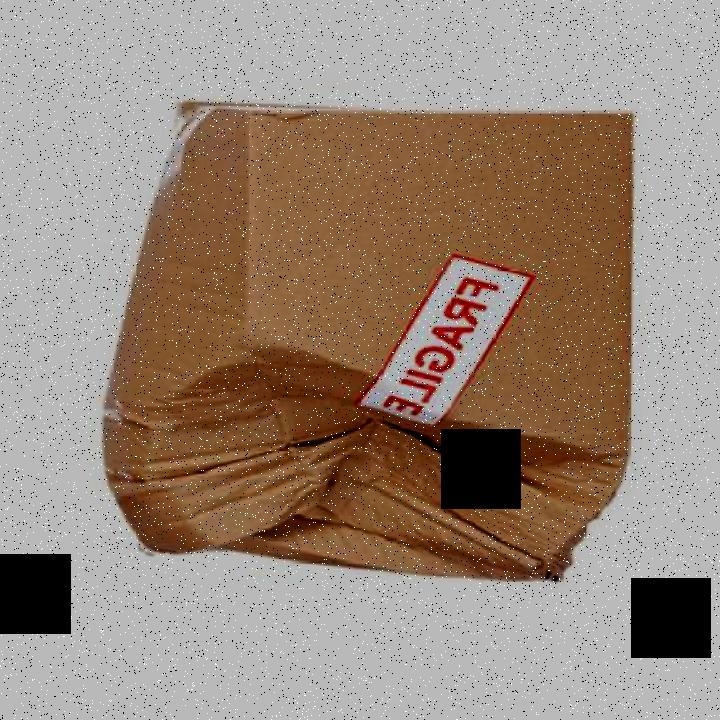box: (100, 100, 642, 594)
